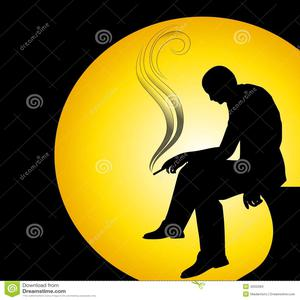cigarette: (152, 164, 169, 175)
